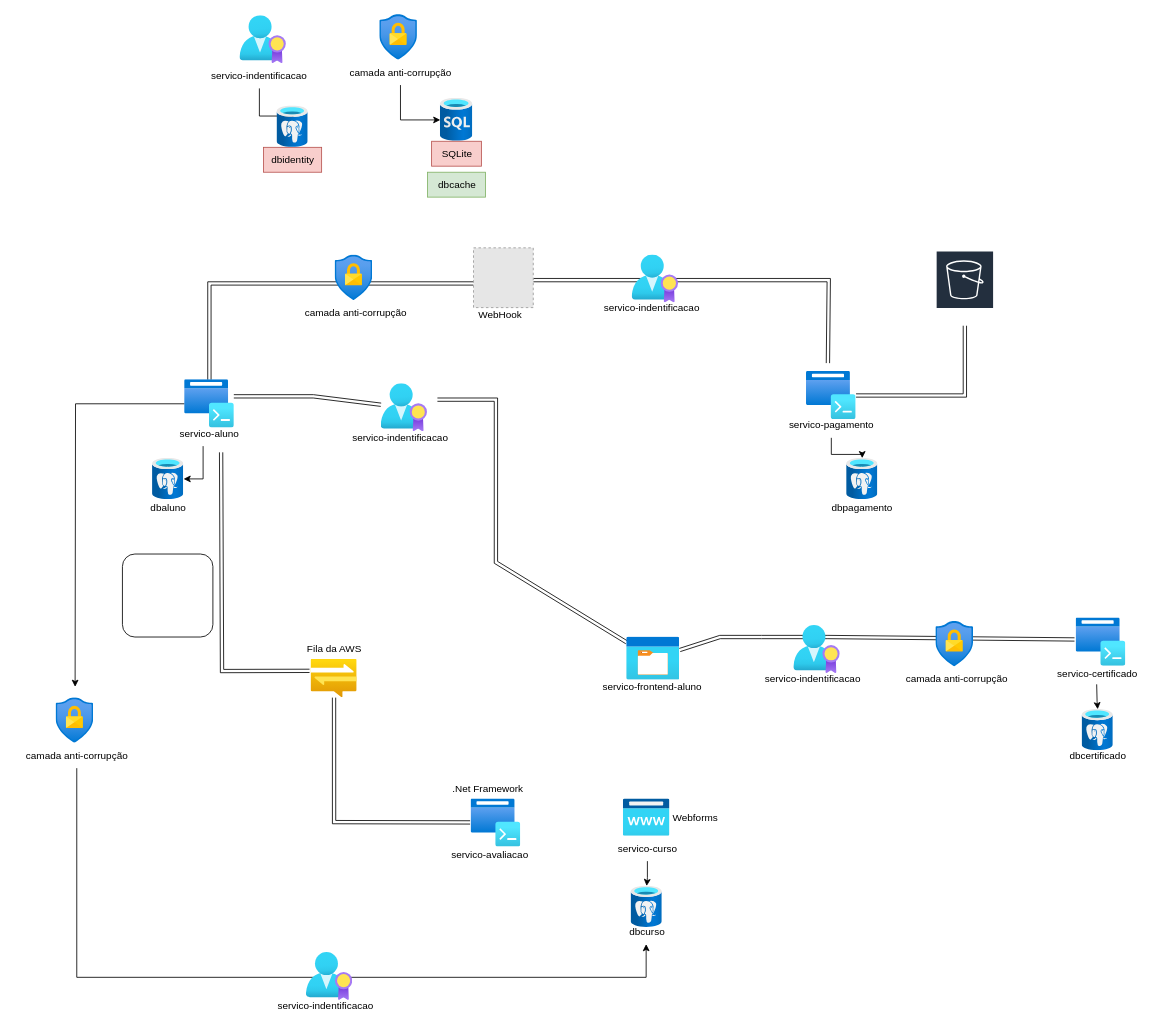
This 1174x1033 diagram has some shape labels left out. Grey dashed boxes stand in for pictures. The shapes that lost their labels are listed below. From the top down, each one's centre as x and y in pixels, then its label:
At [964,287]: "Amazon S3".
At [167,595]: "- id_aluno - id_curso - avaliacao: { nota tipo_avaliacao }".
